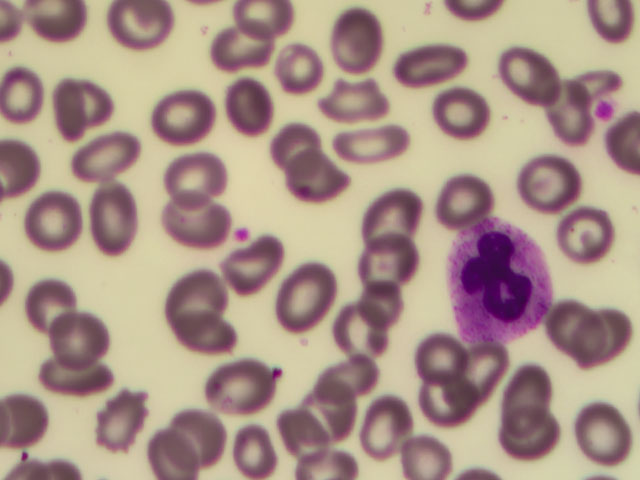Platelets: (593, 100, 614, 119), (231, 225, 250, 246)
RBC: (8, 65, 68, 128), (55, 78, 115, 141), (69, 110, 129, 173), (26, 184, 86, 247), (83, 183, 143, 246), (163, 137, 223, 200), (162, 85, 222, 148), (217, 79, 277, 142), (211, 23, 271, 86), (268, 34, 328, 97), (324, 2, 384, 65), (327, 60, 387, 123), (348, 116, 408, 179), (293, 142, 353, 205), (270, 121, 330, 184), (162, 196, 222, 259), (169, 264, 229, 327), (171, 309, 231, 372), (233, 239, 293, 302), (277, 256, 337, 319), (28, 264, 88, 327), (54, 305, 114, 368), (42, 358, 102, 421), (9, 390, 69, 453), (96, 392, 156, 455), (135, 417, 195, 480), (177, 407, 237, 470), (224, 346, 284, 409), (230, 417, 290, 480), (265, 407, 325, 470), (304, 367, 364, 430), (323, 344, 383, 407), (332, 310, 392, 373), (347, 273, 407, 336), (358, 232, 418, 295), (366, 194, 426, 257), (438, 168, 498, 231), (520, 144, 580, 207), (551, 193, 611, 256), (443, 85, 503, 148), (409, 38, 469, 101), (487, 45, 547, 108), (538, 72, 598, 135), (540, 287, 600, 350), (580, 293, 640, 356), (580, 399, 640, 462), (500, 415, 560, 478), (498, 358, 558, 421), (463, 336, 523, 399), (412, 316, 472, 379), (412, 369, 472, 432), (356, 398, 416, 461), (403, 417, 463, 480), (111, 1, 171, 63), (235, 1, 295, 63), (27, 1, 87, 62)
WBC: (451, 216, 551, 344)
